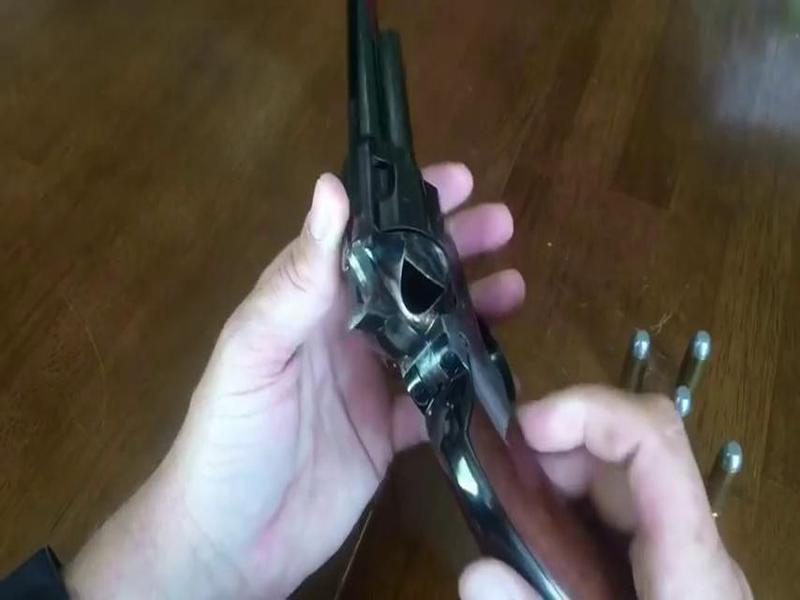Revolver: (312, 7, 568, 593)
